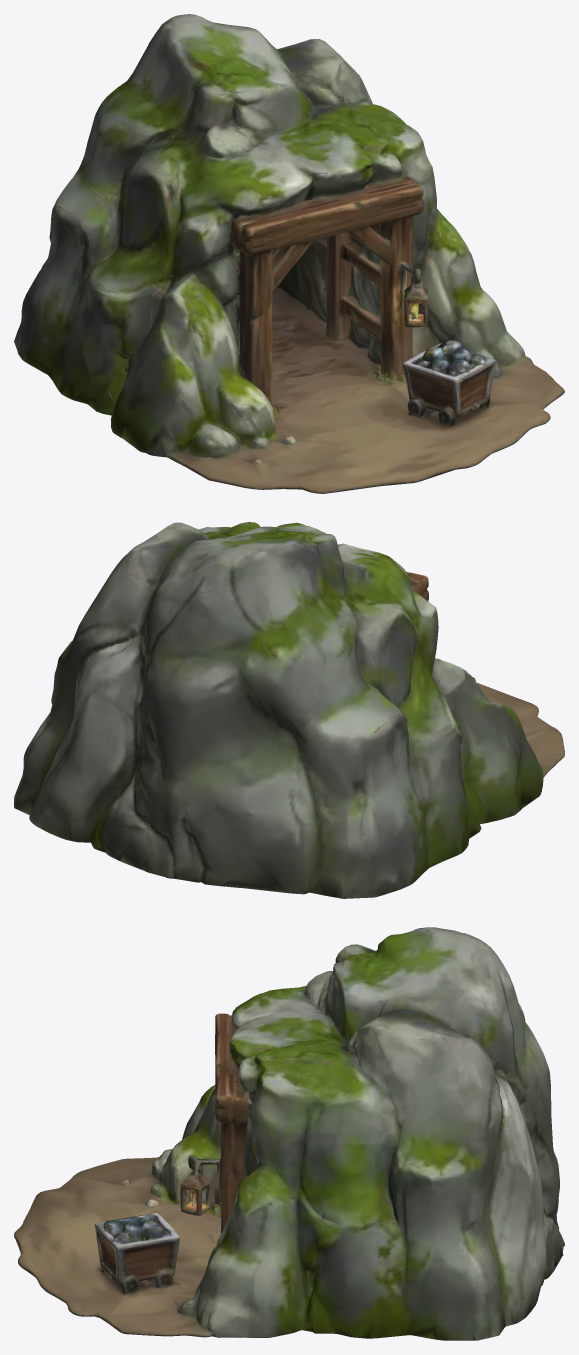
The model's file is mine.glb.
3 views of the same model, one above another, from view 1: azimuth 30°, elevation 25°; view 2: azimuth 150°, elevation 25°; view 3: azimuth 270°, elevation 25° (orthographic).
Visible parts, largest first — view 1: Mesh_0; view 2: Mesh_0; view 3: Mesh_0.
Part boxes in pixels (x1,y1,x2,y2): Mesh_0: [14, 14, 564, 493]; Mesh_0: [14, 522, 564, 898]; Mesh_0: [14, 927, 564, 1340].
Bounding box in the file's own units: 1.55 × 1.12 × 1.9.
Materials: 1 (1 with a texture image).
